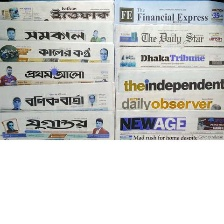news_paper: (0, 109, 113, 141), (113, 110, 224, 141), (0, 81, 115, 110), (0, 20, 116, 47), (0, 61, 115, 88), (0, 0, 116, 24), (112, 46, 224, 70), (0, 40, 116, 63), (114, 0, 224, 24), (112, 24, 224, 47), (114, 68, 224, 90), (114, 91, 223, 112)
